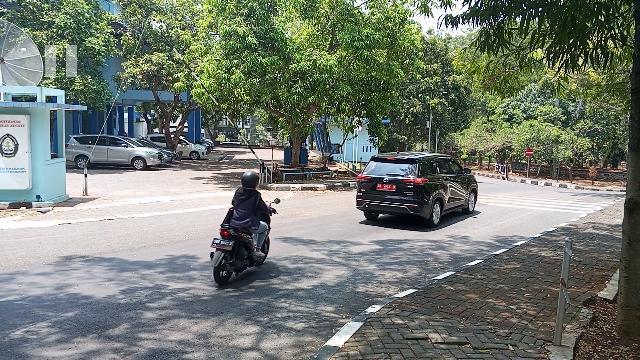helm: (241, 171, 261, 192)
motor: (210, 198, 282, 289)
